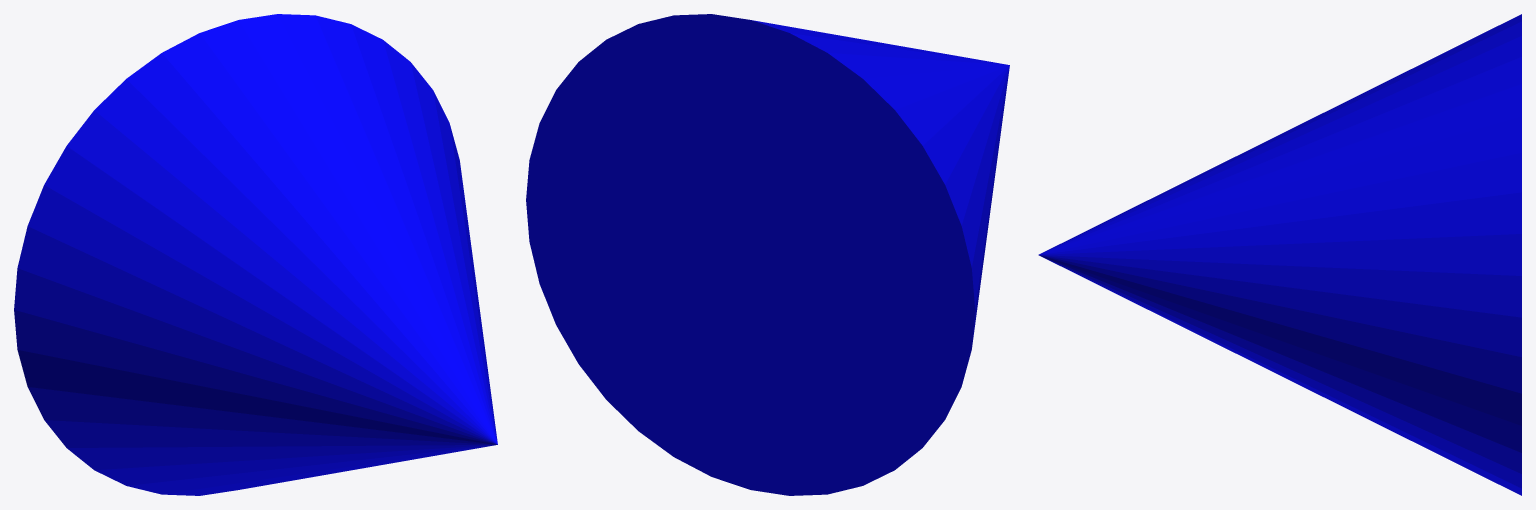
The model's file is translation_gnomon_tip.obj.
3 views of the same model, side by side, from view 1: azimuth 30°, elevation 25°; view 2: azimuth 150°, elevation 25°; view 3: azimuth 270°, elevation 25° (orthographic). The views are drawn at different scales.
Parts seen in each view (by area): view 1: tip; view 2: tip; view 3: tip.
Part boxes in pixels (x1,y1,x2,y2): tip: [14, 14, 497, 495]; tip: [526, 14, 1009, 495]; tip: [1038, 14, 1521, 495].
Size of the model in its own units: 0.2 by 0.2 by 0.2.
